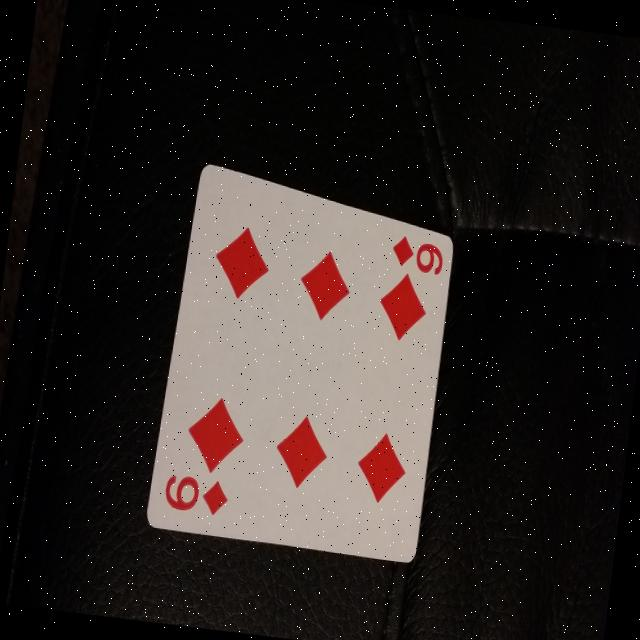6d: (156, 448, 238, 530), (387, 223, 453, 280)
